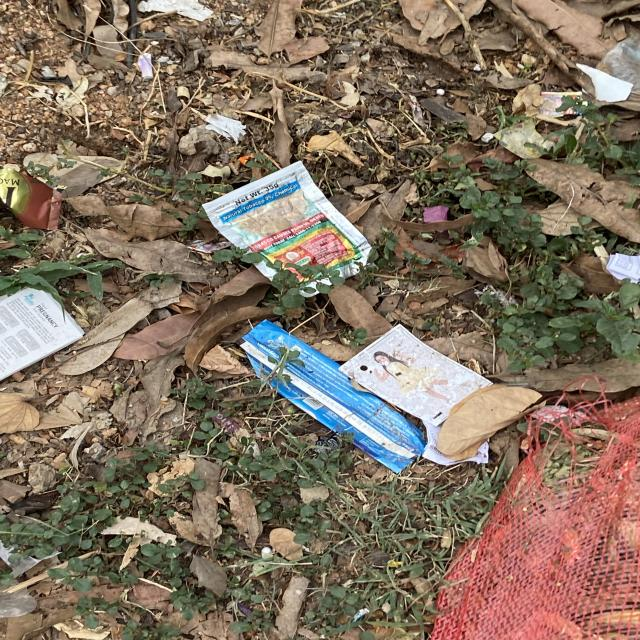paper: (339, 324, 492, 427), (0, 288, 82, 380)
plastic: (432, 396, 640, 640)
wrapper: (240, 320, 425, 473), (202, 161, 370, 279), (0, 167, 61, 229)
